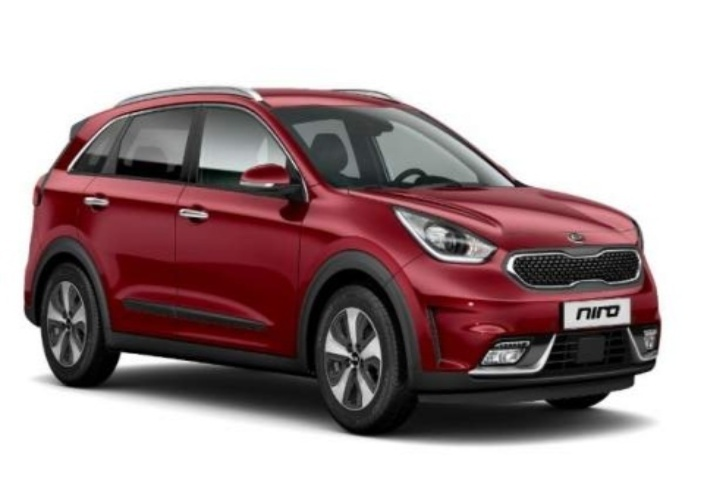camper: (26, 88, 675, 432)
